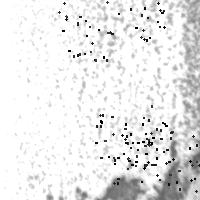pitted_surface: (4, 1, 200, 182), (95, 105, 154, 164), (113, 122, 171, 182), (58, 2, 111, 59), (106, 0, 165, 39), (163, 135, 200, 191), (152, 155, 196, 200), (98, 176, 147, 199)
